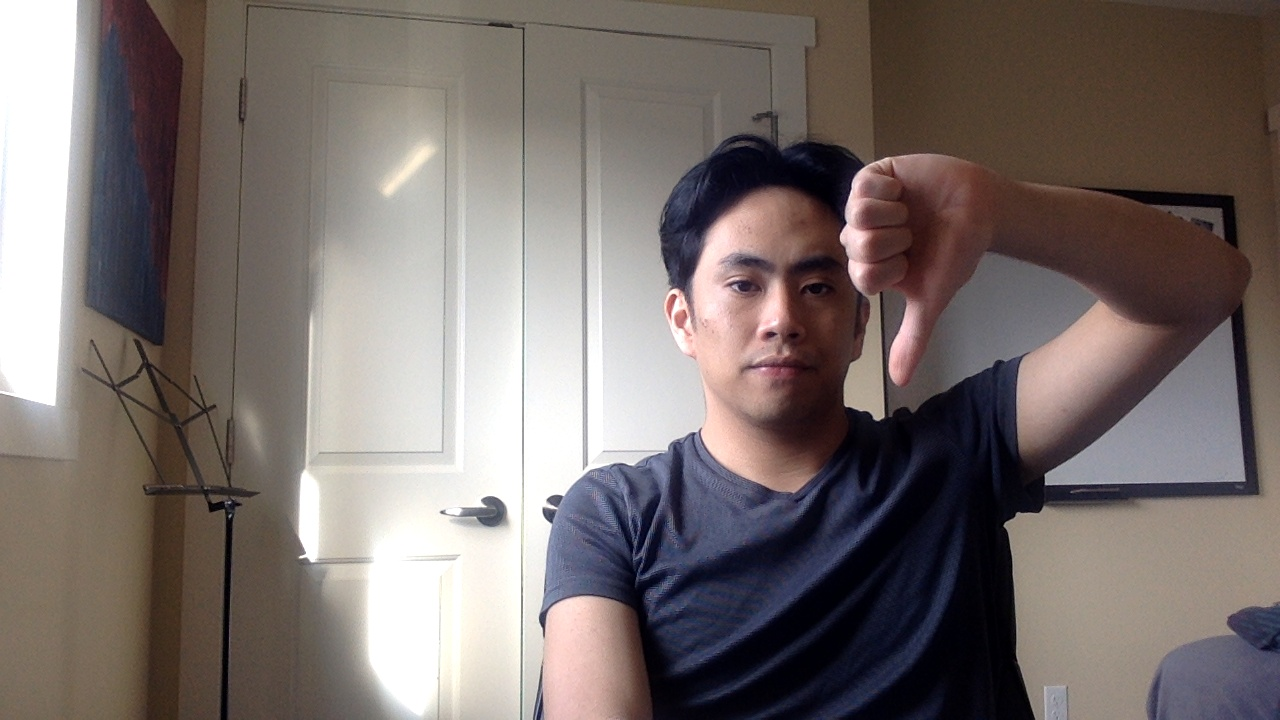ThumbsDown: (843, 151, 991, 390)
